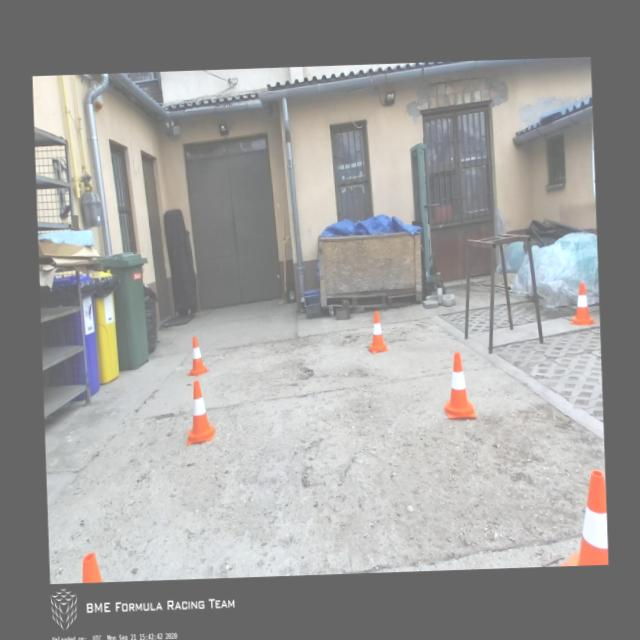orange_cone: (556, 470, 608, 566), (442, 351, 476, 418), (184, 380, 215, 445), (568, 281, 595, 325), (366, 311, 388, 354), (186, 336, 208, 376)
